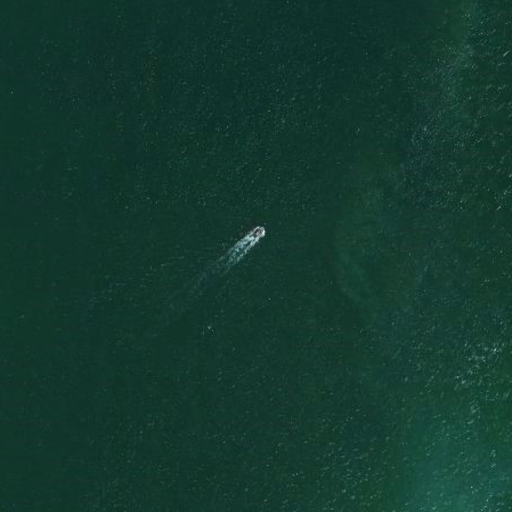ship: (243, 223, 267, 250)
